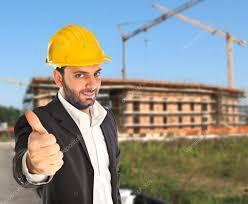helmet: (45, 24, 112, 65)
